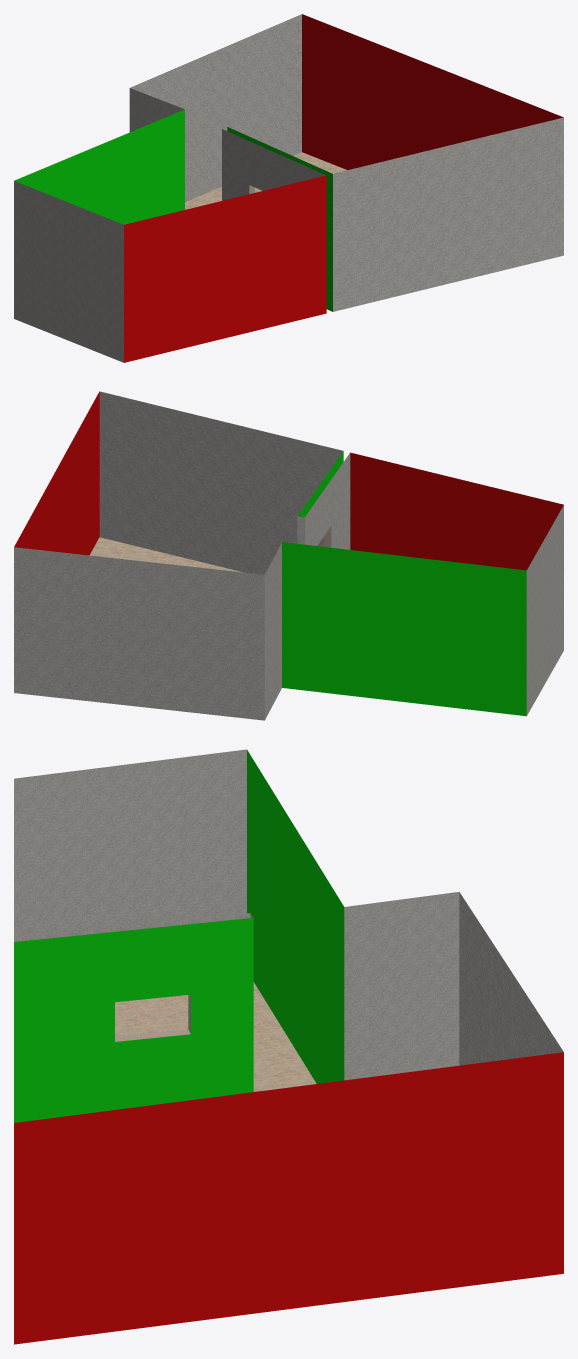
File: InterstitialFloorplanFinal.fbx
3 views of the same model, one above another, from view 1: azimuth 30°, elevation 25°; view 2: azimuth 150°, elevation 25°; view 3: azimuth 270°, elevation 25° (orthographic). The views are drawn at different scales.
Visible parts, largest first — view 1: InterstitialMapped; view 2: InterstitialMapped; view 3: InterstitialMapped.
Part boxes in pixels (<box>): InterstitialMapped: <box>14,14,563,362</box>; InterstitialMapped: <box>14,391,563,720</box>; InterstitialMapped: <box>14,749,563,1344</box>.
Size of the model in its own units: 908 by 251 by 565.
